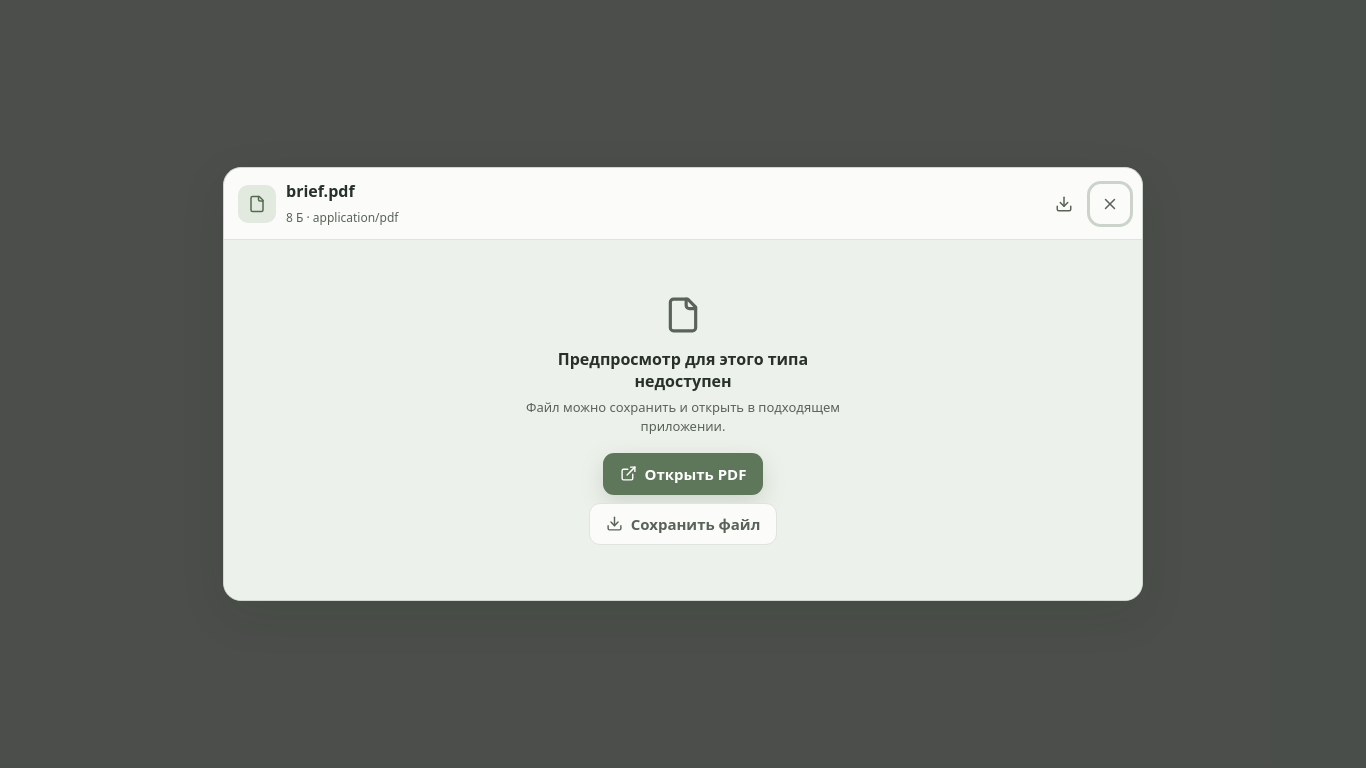
Test case: AttachmentViewer URL safety › uses the Android document picker for a PDF instead of promising an embedded preview
The width and height of the screenshot is (1366, 768).
Expected: the button "Сохранить файл" is shown, [589, 502, 777, 544]
Click the button "Открыть PDF" at (683, 474), box [602, 452, 763, 494]
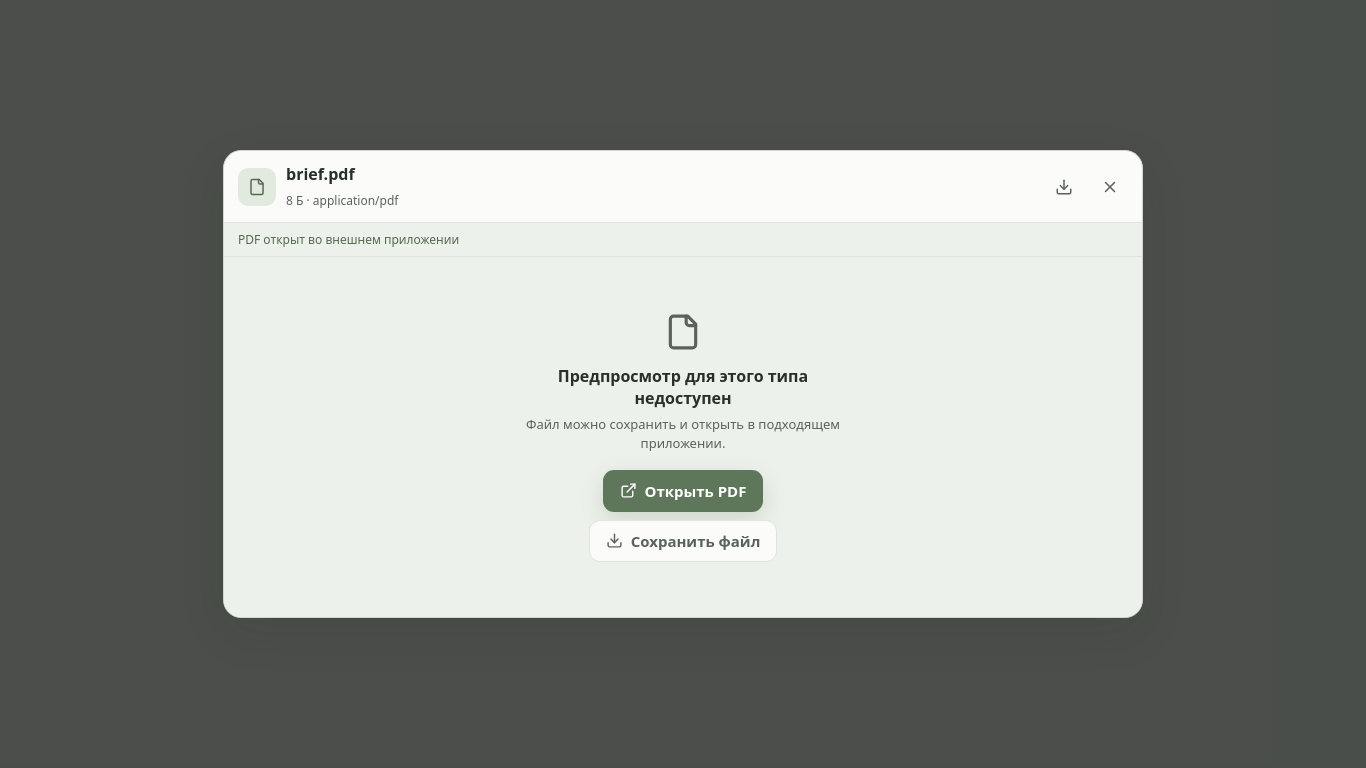
Now the message reads "PDF открыт во внешнем приложении", box [238, 231, 459, 248]
Click the button named "Скачать brief.pdf" at (1064, 186), box [1046, 168, 1082, 204]
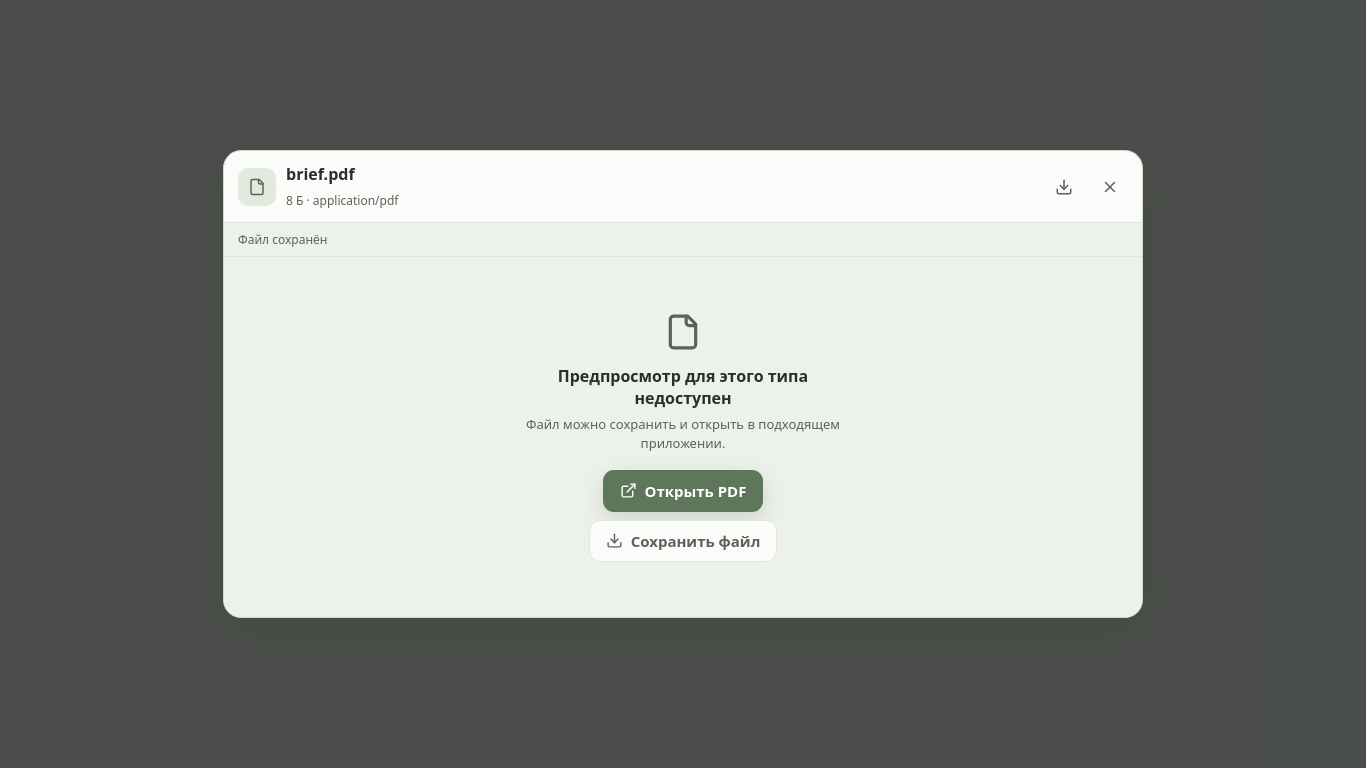
Now the message reads "Файл сохранён", box [238, 231, 328, 248]
